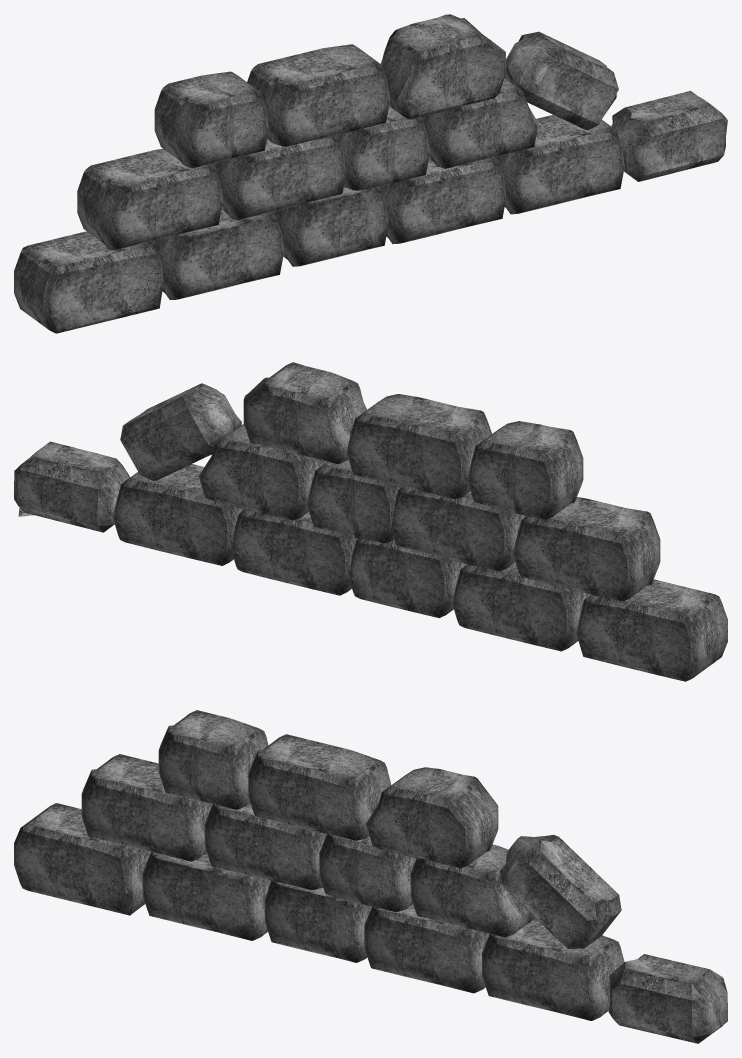
File: muretDeBase.FBX
3 views of the same model, one above another, from view 1: azimuth 30°, elevation 25°; view 2: azimuth 150°, elevation 25°; view 3: azimuth 330°, elevation 25° (orthographic).
Parts seen in each view (by area): view 1: Boîte018; view 2: Boîte018; view 3: Boîte018.
Boxes of the visible parts, box(x1,y1,x2,y2) form: Boîte018: box(14, 14, 727, 333); Boîte018: box(14, 362, 727, 681); Boîte018: box(14, 710, 727, 1043).
Bounding box in the file's own units: 66.85 × 18.01 × 6.11.
Materials: 1 (1 with a texture image).
